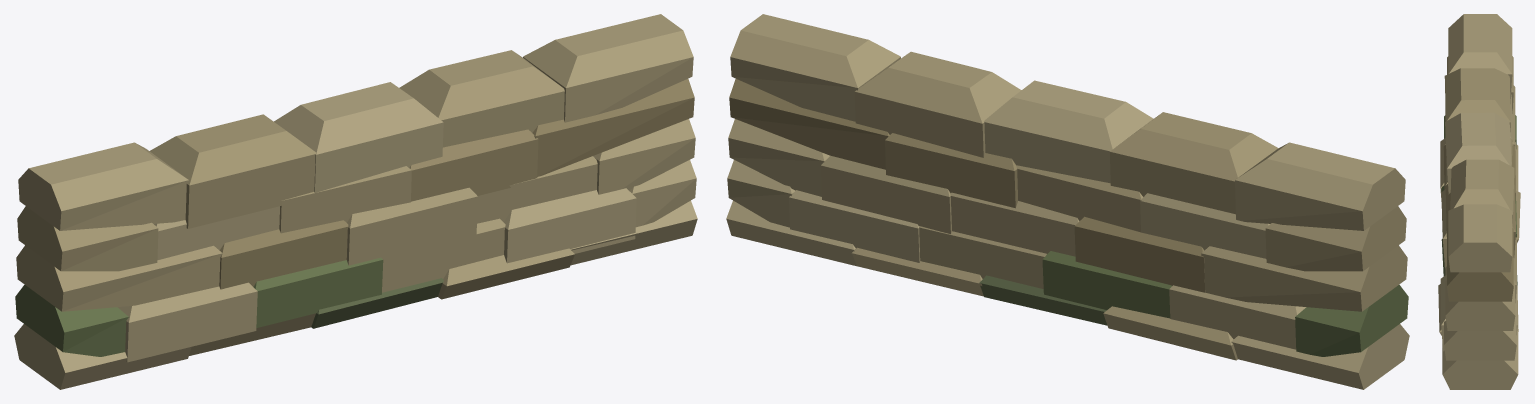
File: sandbag-wall-section-7075ee.glb
3 views of the same model, side by side, from view 1: azimuth 30°, elevation 25°; view 2: azimuth 150°, elevation 25°; view 3: azimuth 270°, elevation 25° (orthographic). The views are drawn at different scales.
Visible parts, largest first — view 1: sandbags; view 2: sandbags; view 3: sandbags.
Part boxes in pixels (x1=…): sandbags: x1=14, y1=14, x2=697, y2=389; sandbags: x1=726, y1=14, x2=1409, y2=389; sandbags: x1=1438, y1=14, x2=1520, y2=389.
Size of the model in its own units: 4 by 1.2 by 0.6088.
